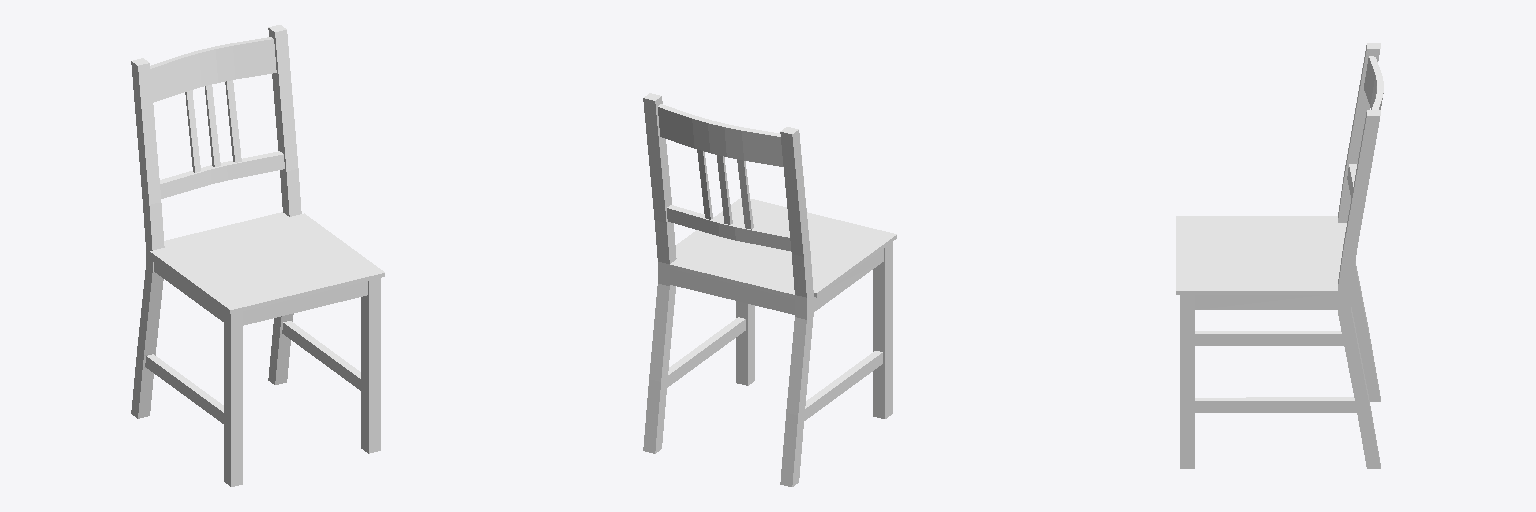
File: chair.obj
The picture shows the model from 3 angles: view 1: azimuth 30°, elevation 25°; view 2: azimuth 150°, elevation 25°; view 3: azimuth 270°, elevation 25°; orthographic projection.
Parts seen in each view (by area): view 1: Chair_Mesh; view 2: Chair_Mesh; view 3: Chair_Mesh.
Boxes of the visible parts, x1=… form: Chair_Mesh: x1=131, y1=25, x2=384, y2=486; Chair_Mesh: x1=643, y1=93, x2=896, y2=486; Chair_Mesh: x1=1176, y1=43, x2=1383, y2=468.
Size of the model in its own units: 0.0413 by 0.09 by 0.048.